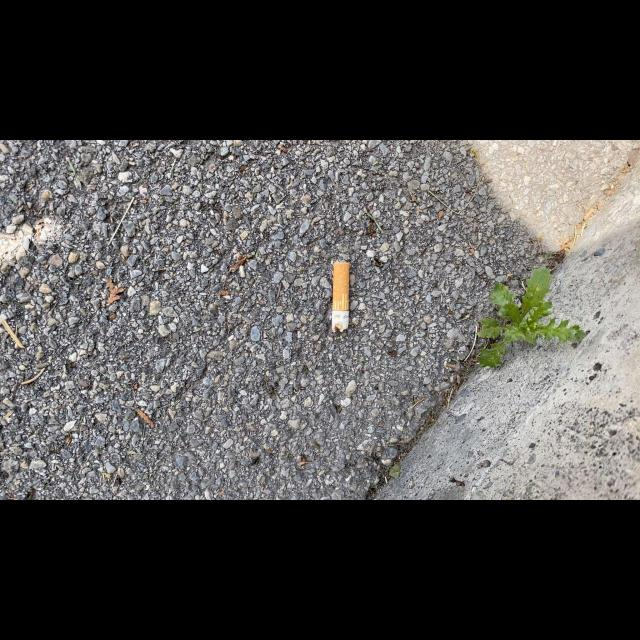cigarette: (331, 260, 350, 336)
